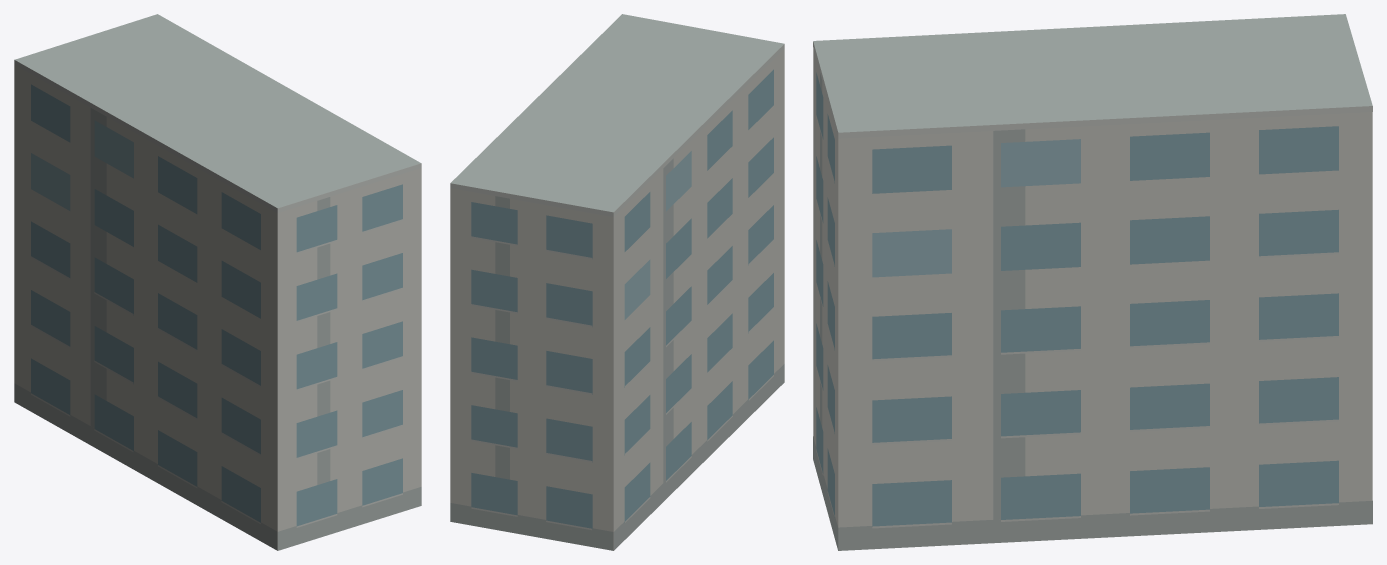
The model's file is survey-upis-32587763.glb.
The picture shows the model from 3 angles, left to right: view 1: azimuth 30°, elevation 25°; view 2: azimuth 150°, elevation 25°; view 3: azimuth 270°, elevation 25°; orthographic projection. The views are drawn at different scales.
Visible parts, largest first — view 1: survey-upis-32587763.tmp; view 2: survey-upis-32587763.tmp; view 3: survey-upis-32587763.tmp.
Part boxes in pixels (<box>): survey-upis-32587763.tmp: <box>14,14,421,550</box>; survey-upis-32587763.tmp: <box>450,14,784,550</box>; survey-upis-32587763.tmp: <box>813,14,1372,550</box>.
Bounding box in the file's own units: 10.48 × 17.2 × 20.87.
